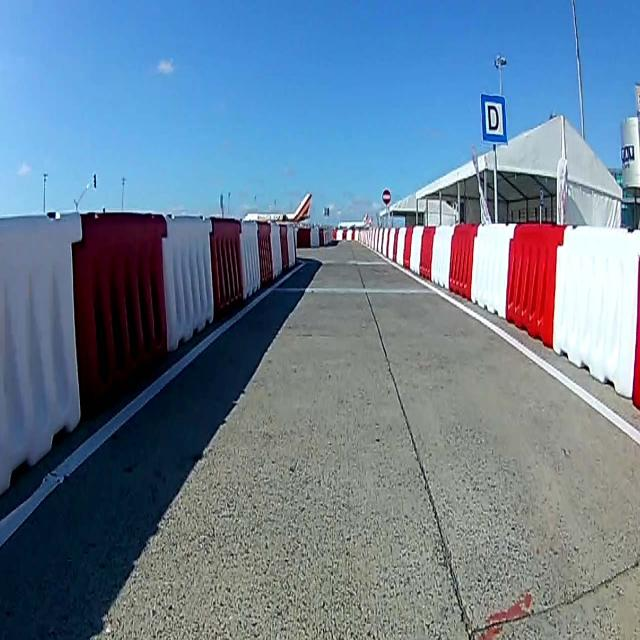durak: (480, 93, 508, 145)
girisyok: (382, 190, 391, 206)
